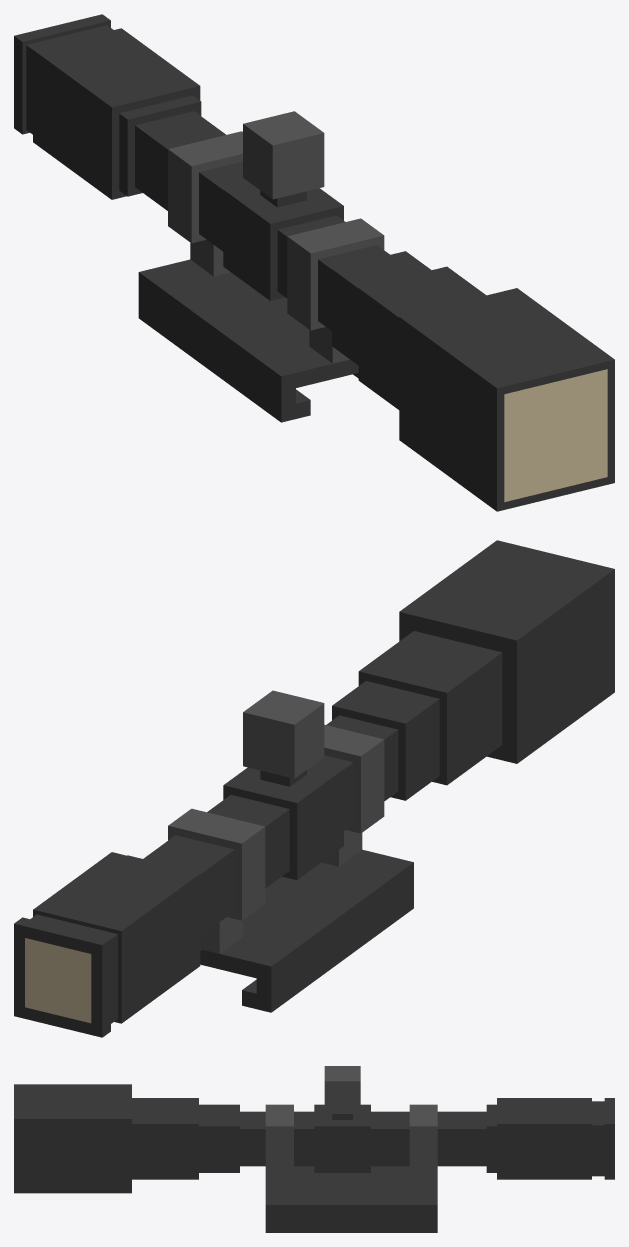
Rendered from rifle_sniper_scope.fbx.
The picture shows the model from 3 angles, top to bottom: view 1: azimuth 30°, elevation 25°; view 2: azimuth 150°, elevation 25°; view 3: azimuth 270°, elevation 25°; orthographic projection. The views are drawn at different scales.
Parts seen in each view (by area): view 1: rifle_sniper_scope; view 2: rifle_sniper_scope; view 3: rifle_sniper_scope.
Part boxes in pixels (bbox=[...]): rifle_sniper_scope: bbox=[14, 14, 614, 511]; rifle_sniper_scope: bbox=[14, 540, 614, 1037]; rifle_sniper_scope: bbox=[14, 1066, 614, 1232].
Bounding box in the file's own units: 10.8 × 18 × 70.2.
